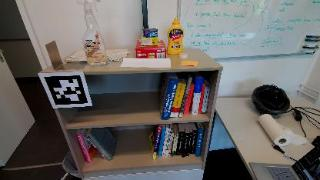book-spine: (160, 77, 179, 121), (85, 132, 111, 162), (169, 82, 186, 119), (179, 77, 192, 118), (190, 77, 204, 115), (84, 135, 106, 159), (76, 132, 91, 164), (152, 125, 162, 160), (183, 85, 194, 115), (195, 128, 205, 157), (158, 127, 166, 157), (165, 128, 173, 157), (182, 132, 190, 158), (198, 85, 205, 114), (204, 85, 211, 114), (201, 85, 208, 114), (162, 128, 169, 157), (176, 131, 184, 156), (186, 131, 193, 157), (190, 130, 197, 154), (168, 133, 174, 155), (172, 135, 177, 157), (174, 134, 179, 155)
